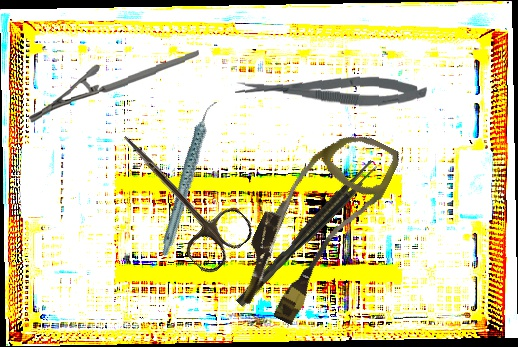Cannula: (225, 110, 404, 337)
Handpiece: (131, 98, 248, 259)
Iris Scissors: (97, 114, 259, 279)
Micro Scissor: (234, 68, 428, 111)
Needle Holder: (25, 50, 202, 124)
Tissue Forceps: (231, 158, 381, 308)
